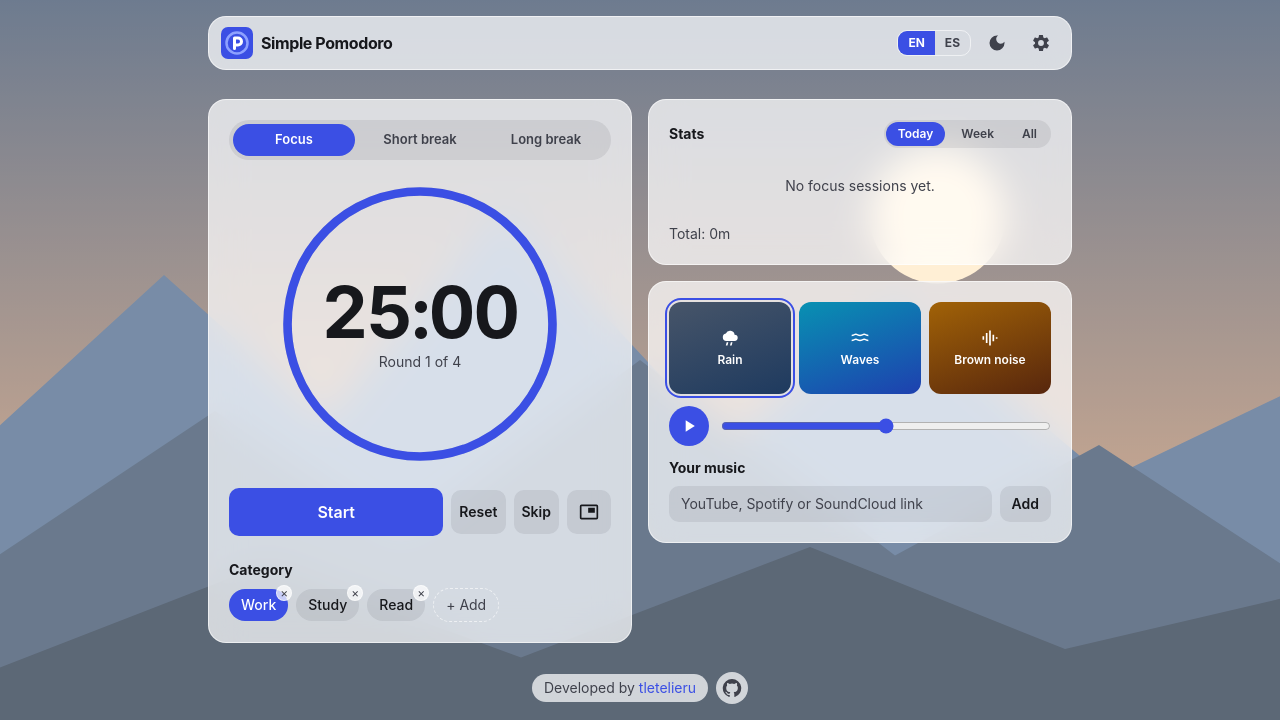
Scenario: App › switches language and keeps it
This screenshot has width=1280, height=720.
Expected: the button "Start" is shown, [229, 488, 443, 536]
Click the button "ES" at (952, 43), box [935, 31, 970, 55]
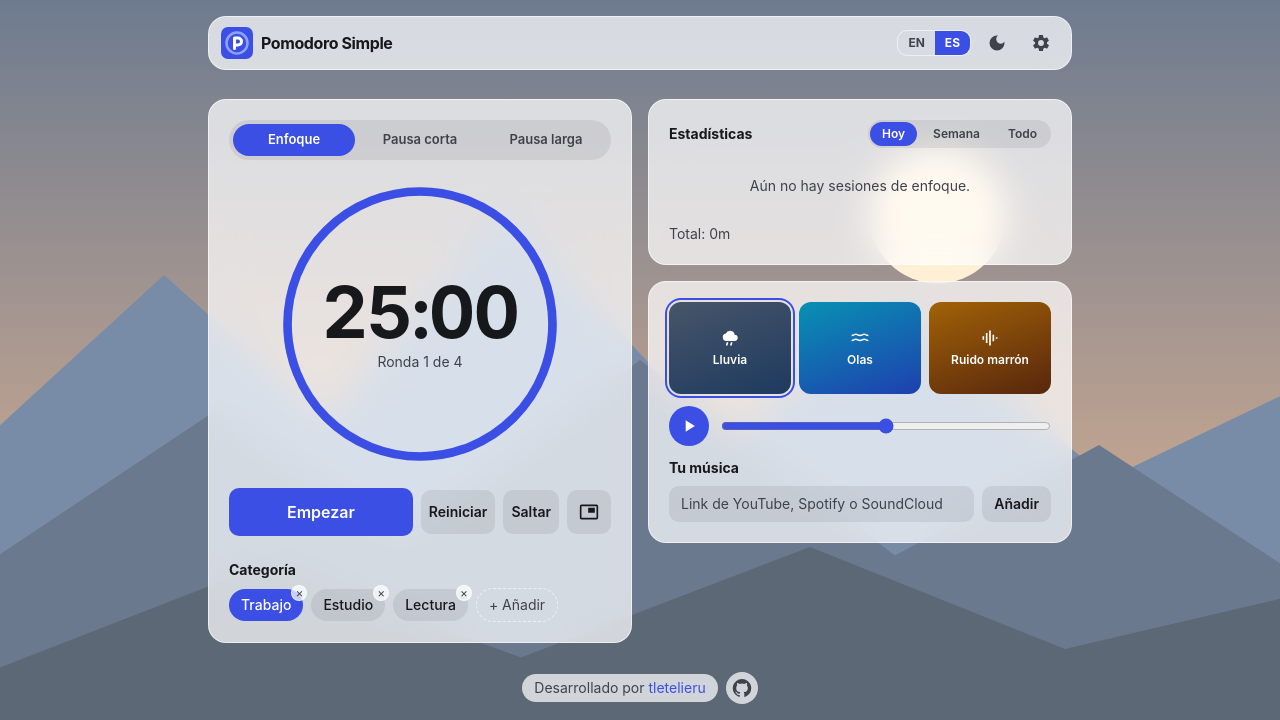
Expected: the button "Empezar" is shown, [229, 488, 413, 536]
Expected: the button "Trabajo" is shown, [229, 589, 303, 621]
